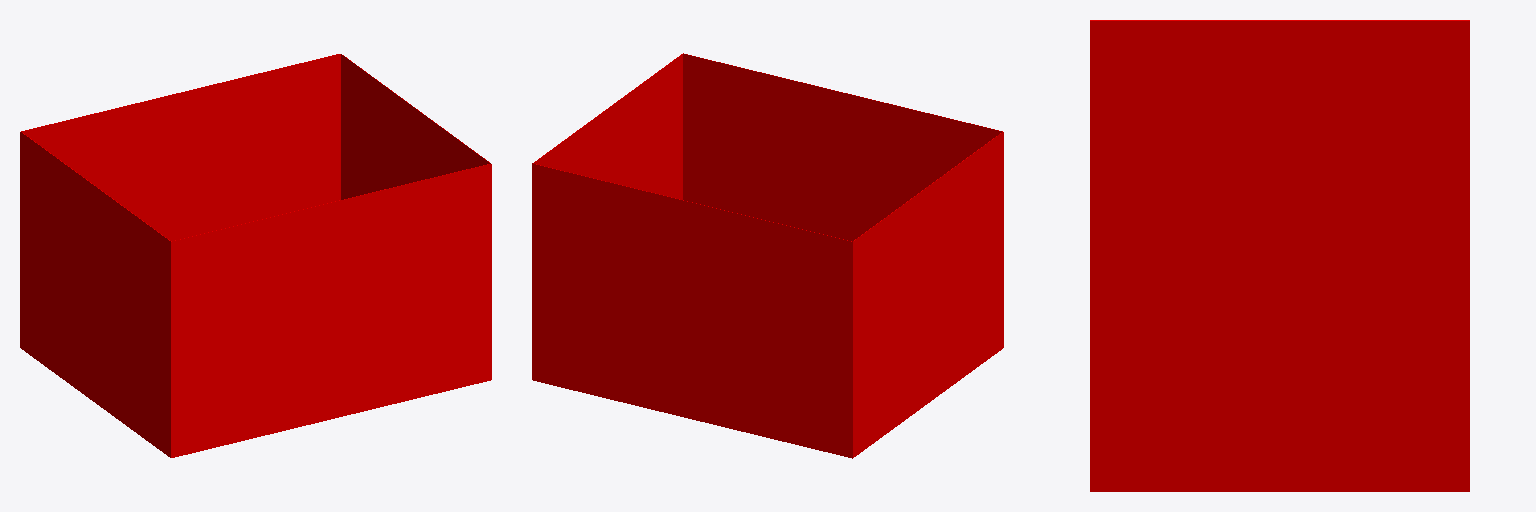
robot.urdf — square.urdf:
<?xml version="1.0" ?>
<robot name="square.urdf">
  <link name="baseLink">
    <contact>
      <lateral_friction value="1.0"/>
      <inertia_scaling value="3.0"/>
    </contact>
    <inertial>
      <origin rpy="0 0 0" xyz="0 0 0"/>
       <mass value=".1"/>
       <inertia ixx="1" ixy="0" ixz="0" iyy="1" iyz="0" izz="1"/>
    </inertial>
    <visual>
      <origin rpy="0 0 0" xyz="0 0 0"/>
      <geometry>
        <mesh filename="box_1.stl" scale="1 1 1" />
      </geometry>
      <material name="red">
        <color rgba="1 0 0 1"/>
      </material>
    </visual>
    <collision>
      <origin rpy="0 0 0" xyz="0 0 0"/>
      <geometry>
        <mesh filename="box_1.obj" scale="1 1 1" />
      </geometry>
    </collision>
  </link>
</robot>

--- What the picture shows (computed from the rendered views, not written in the file) ---
The picture shows the robot from 3 angles, left to right: view 1: azimuth 30°, elevation 25°; view 2: azimuth 150°, elevation 25°; view 3: azimuth 270°, elevation 25°; orthographic projection.
Robot: square.urdf — 1 links, 0 joints (none); root link baseLink; default pose: every joint at zero.
Links seen in each view (by area): view 1: baseLink; view 2: baseLink; view 3: baseLink.
Link boxes in pixels (x1,y1,x2,y2): baseLink: [20, 54, 491, 457]; baseLink: [532, 53, 1003, 458]; baseLink: [1090, 20, 1469, 491].
Bounding box of the posed robot: 0.7356 × 0.5989 × 0.4754 m (x, y, z).
Meshes: 1 distinct files referenced, 1 mesh visuals loaded (1 binary STL).